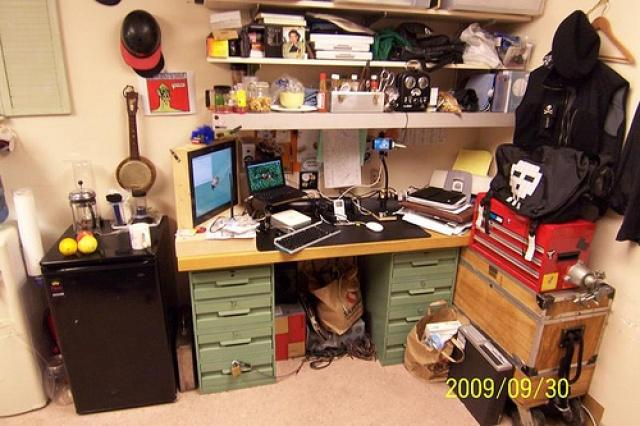Filing Cabinet: (187, 263, 276, 393), (381, 246, 458, 367)
